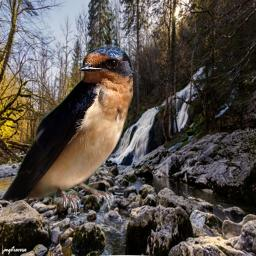Swallow: (0, 45, 133, 217)
